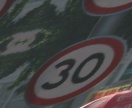Speed limit: (23, 37, 128, 106)
